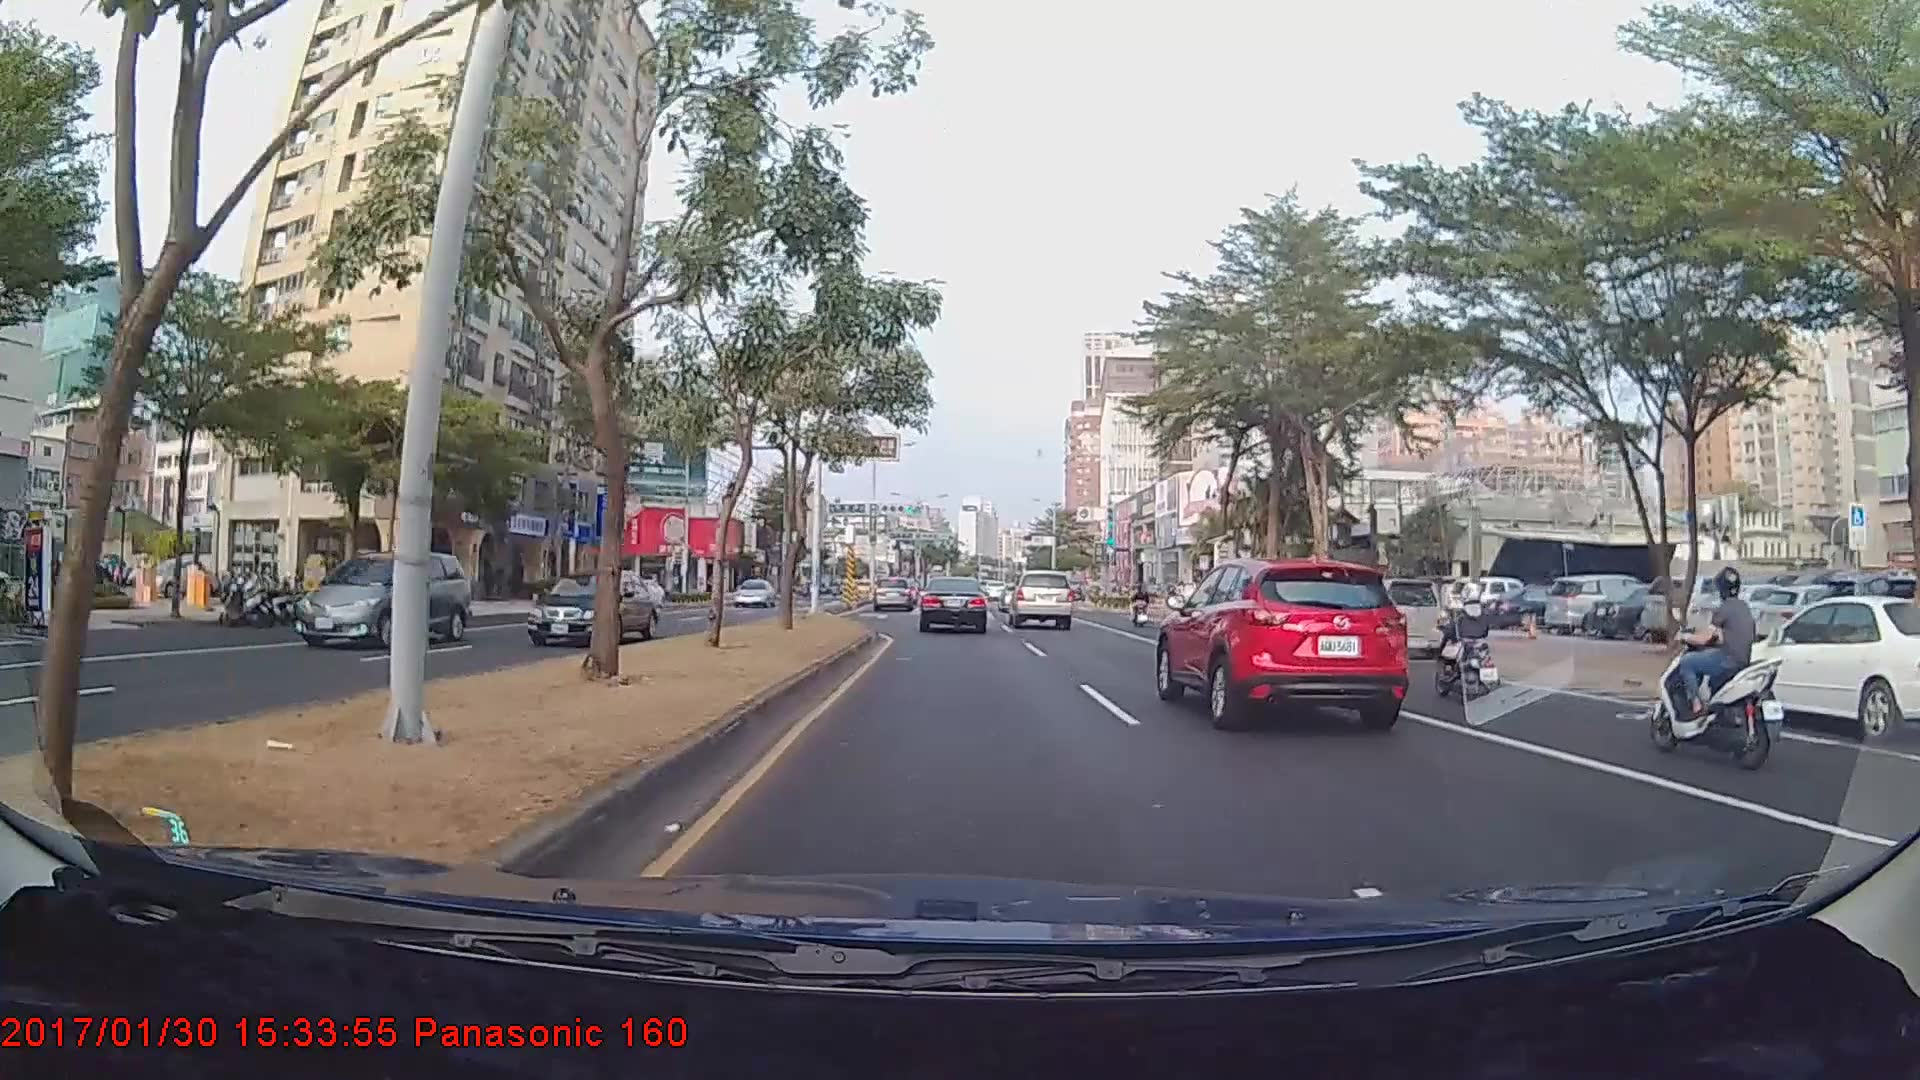rider: (1640, 555, 1792, 769), (1420, 575, 1511, 704), (1131, 580, 1158, 627)
vehicle: (1152, 551, 1407, 729), (1686, 594, 1920, 744), (293, 548, 471, 646), (522, 567, 659, 646), (1339, 576, 1443, 660), (1540, 572, 1665, 636), (918, 575, 989, 634), (1007, 569, 1074, 630), (871, 573, 919, 613), (732, 575, 774, 606)
